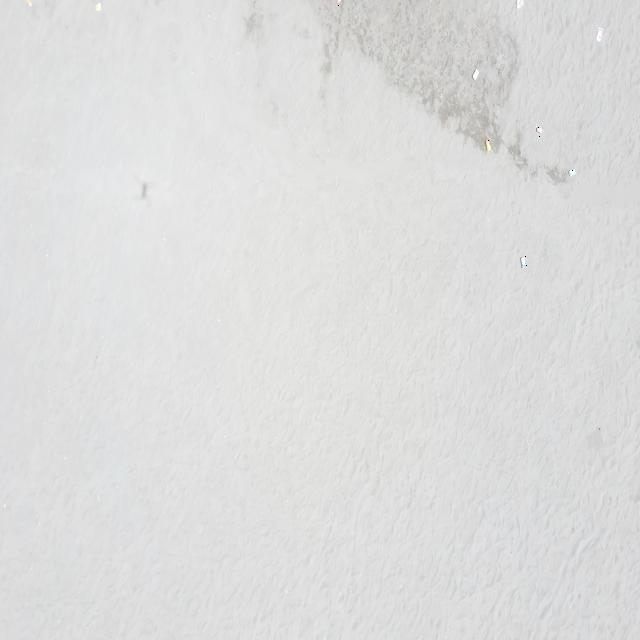Garbage: (595, 27, 603, 40), (484, 138, 491, 151), (520, 255, 527, 267), (472, 68, 479, 80), (536, 124, 542, 136), (567, 168, 575, 176), (515, 0, 523, 7), (96, 2, 100, 11), (24, 0, 31, 5), (336, 0, 340, 5)
